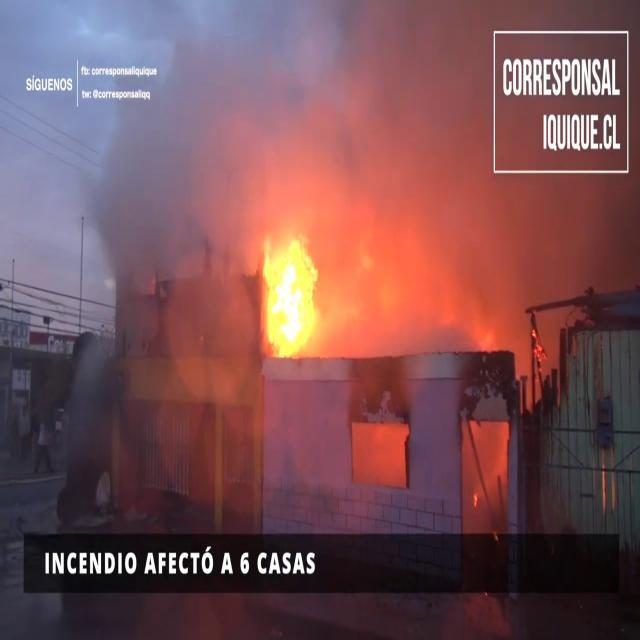Fire: (254, 228, 328, 359)
Smoke: (71, 0, 638, 309), (61, 4, 263, 510)
